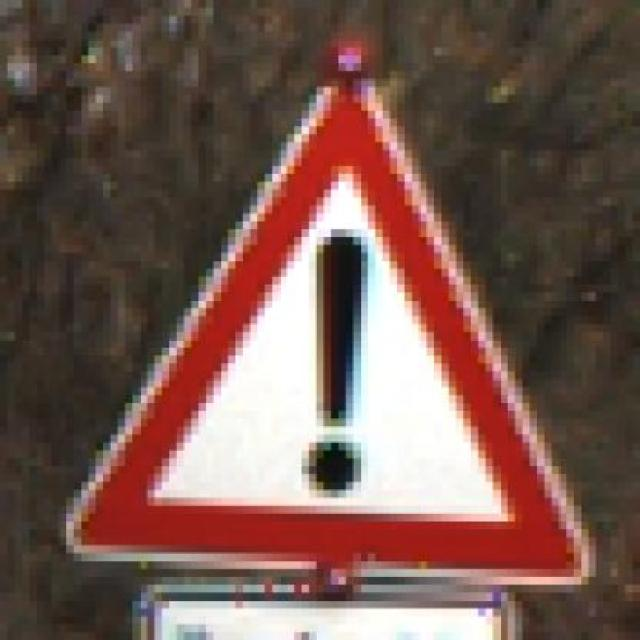Attention Please-: (66, 82, 619, 588)
